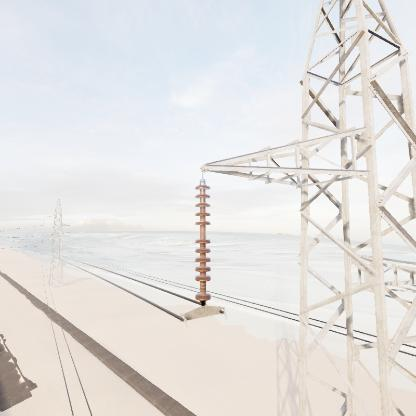insulator: (190, 179, 217, 305)
